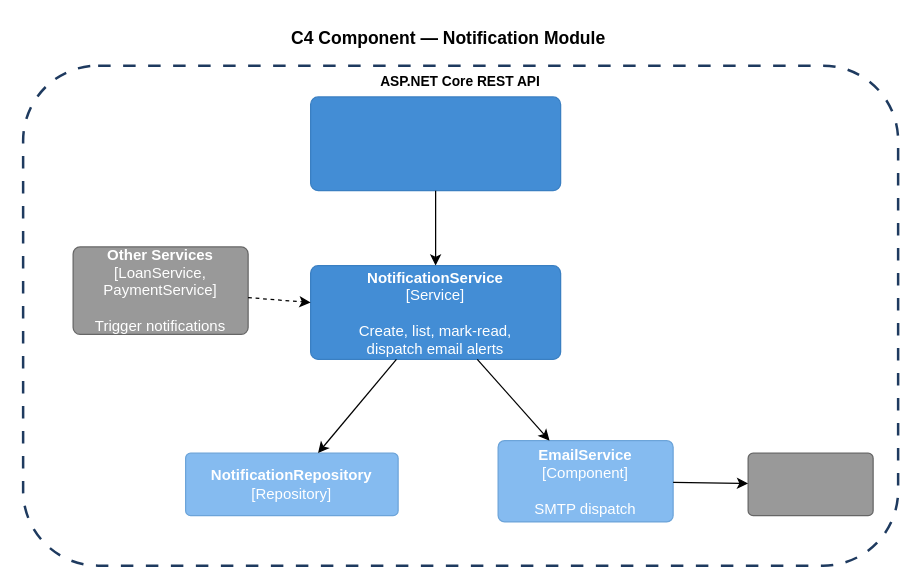
This 920x588 diagram has some shape labels left out. The shapes that lost their labels are listed below. From the top down, each one's centre as x and y in pixels, then its label:
At point 435,143: "NotificationController [Controller] list, count, mark-read, mark-all-read".
At point 810,484: "SMTP Server [External]".
